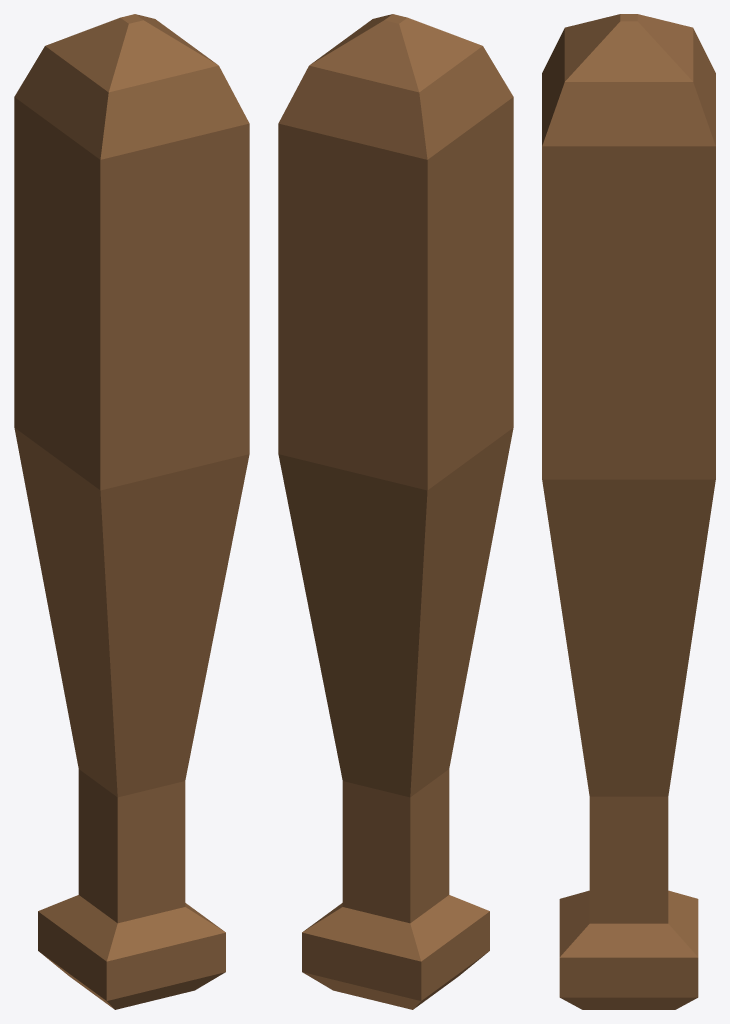
The model's file is BeiseballBat.fbx.
The picture shows the model from 3 angles, left to right: view 1: azimuth 30°, elevation 25°; view 2: azimuth 150°, elevation 25°; view 3: azimuth 270°, elevation 25°; orthographic projection.
Parts seen in each view (by area): view 1: Baiseball_Bat; view 2: Baiseball_Bat; view 3: Baiseball_Bat.
Boxes of the visible parts, x1,y1,x2,y2 form: Baiseball_Bat: (14, 14, 249, 1009); Baiseball_Bat: (278, 14, 513, 1009); Baiseball_Bat: (542, 14, 715, 1009).
Size of the model in its own units: 0.1667 by 1.03 by 0.1667.
